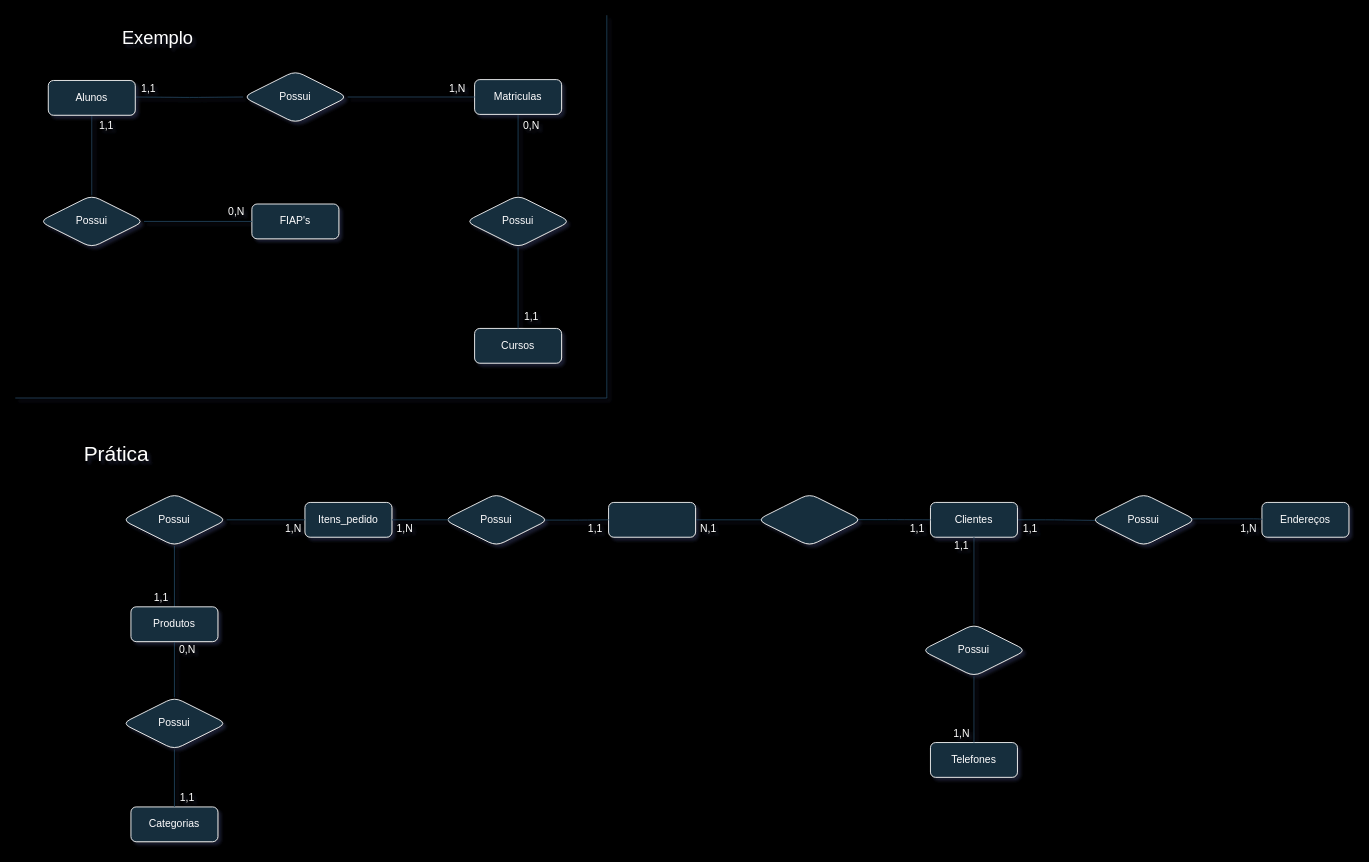
The diagram is 1369 pixels wide and 862 high, and some of its shapes have lost their labels. Each missing label, with the centre of its shape:
"Compra" goes at [809,519].
"Pedido" goes at [652,519].
